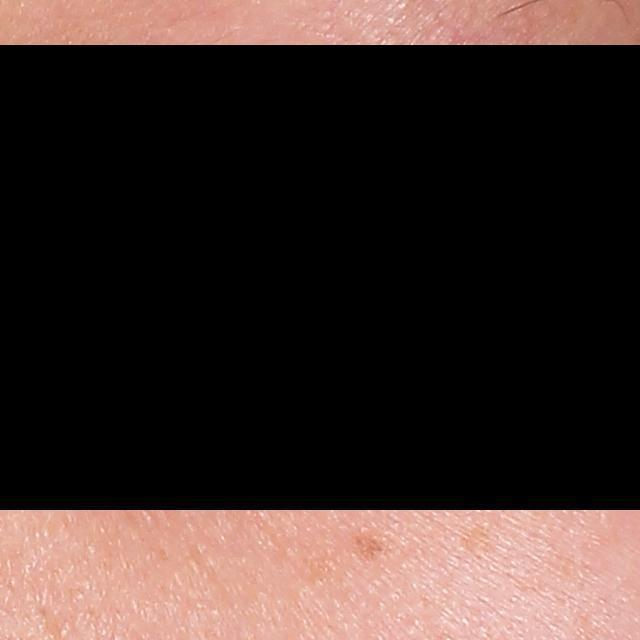melasma: (456, 522, 500, 557), (344, 531, 387, 566)
